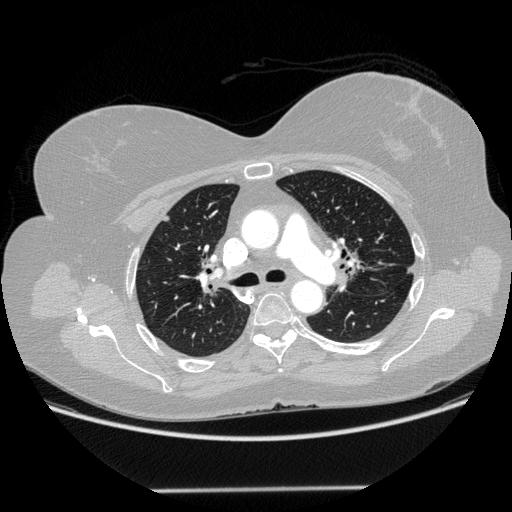nodule: (161, 214, 171, 224)
